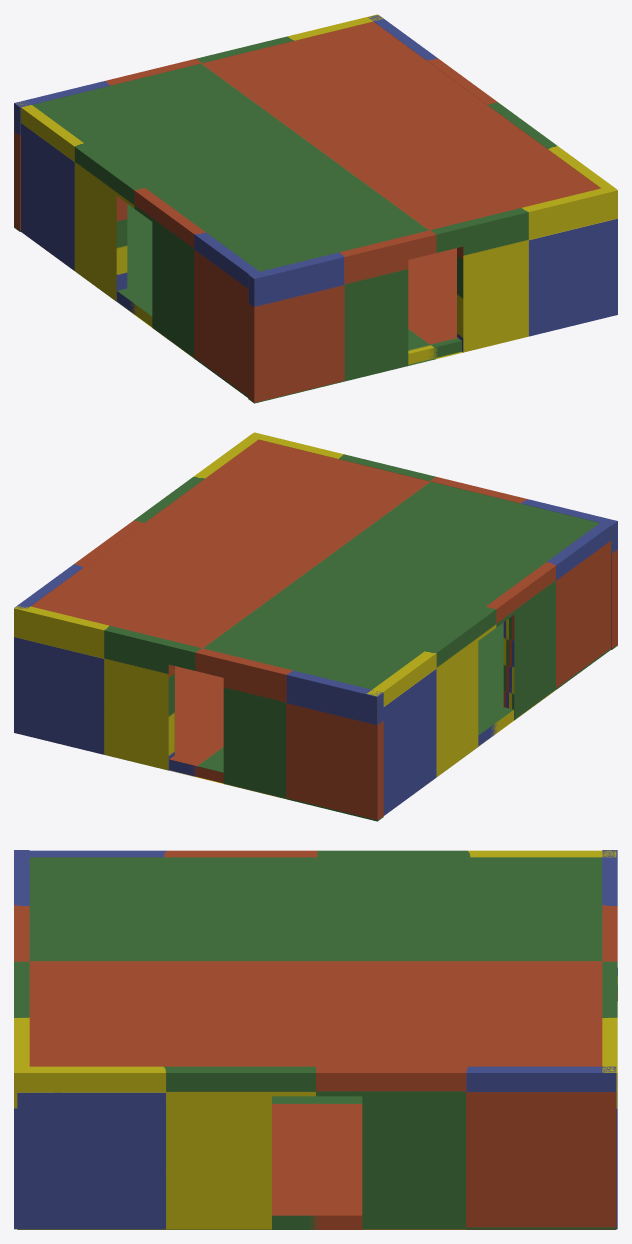
Rendered from kamer try unity.fbx.
The picture shows the model from 3 angles, top to bottom: view 1: azimuth 30°, elevation 25°; view 2: azimuth 150°, elevation 25°; view 3: azimuth 270°, elevation 25°; orthographic projection. The views are drawn at different scales.
Parts seen in each view (by area): view 1: vloer_en_muren, dak; view 2: vloer_en_muren, dak; view 3: dak, vloer_en_muren.
Boxes of the visible parts, x1,y1,x2,y2 form: vloer_en_muren: (14,14,617,403); dak: (32,21,600,271); vloer_en_muren: (14,432,617,821); dak: (31,439,599,689); dak: (29,857,602,1066); vloer_en_muren: (14,850,617,1229).
Bounding box in the file's own units: 6.88 × 2.26 × 7.88.
1 material, 1 textured.
